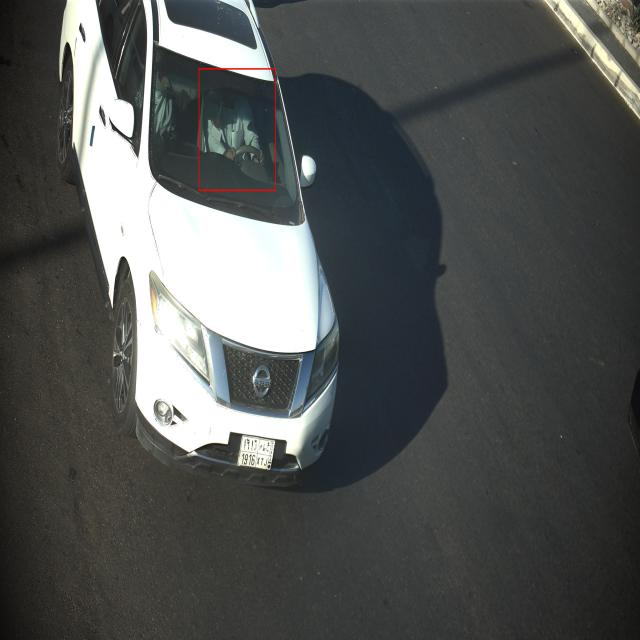windshield: (146, 44, 303, 229)
